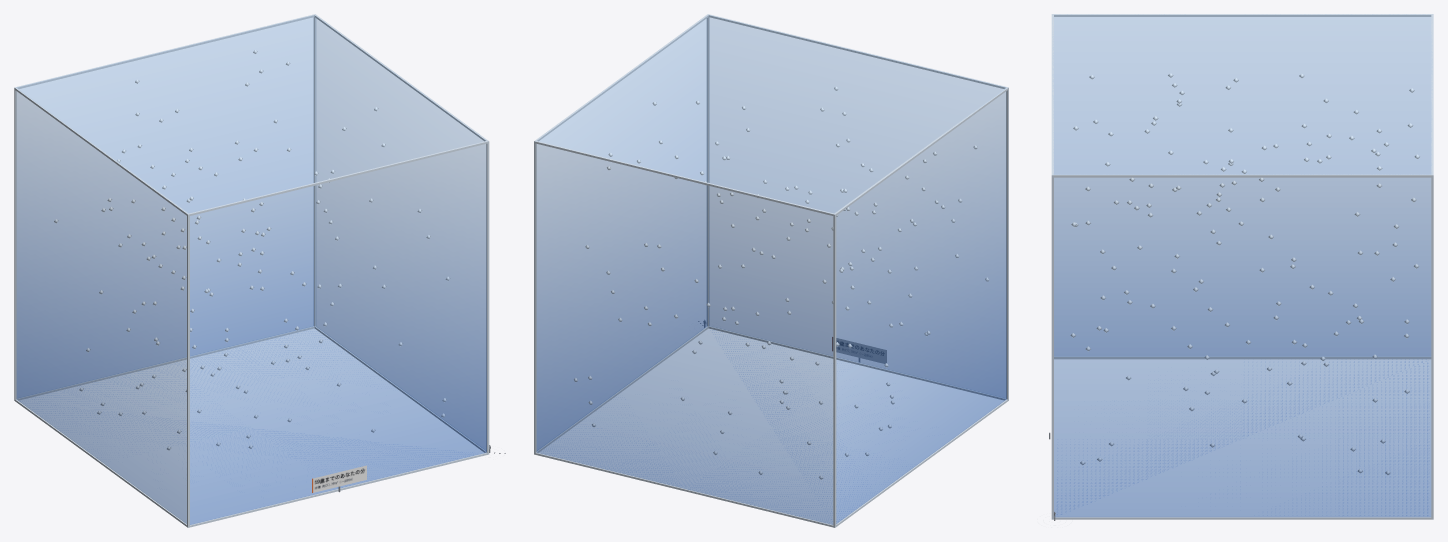
The model's file is cube_life_59.glb.
The picture shows the model from 3 angles, left to right: view 1: azimuth 30°, elevation 25°; view 2: azimuth 150°, elevation 25°; view 3: azimuth 270°, elevation 25°; orthographic projection. The views are drawn at different scales.
Visible parts, largest first — view 1: co2, edge, dots, label; view 2: co2, edge, dots, label; view 3: co2, edge, dots.
Part boxes in pixels (<box>): co2: <box>16,15,486,524</box>; edge: <box>14,14,489,527</box>; dots: <box>54,49,450,450</box>; label: <box>312,465,366,492</box>; co2: <box>536,15,1006,524</box>; edge: <box>534,14,1008,527</box>; dots: <box>574,86,989,479</box>; label: <box>832,337,886,363</box>; co2: <box>1053,15,1431,516</box>; edge: <box>1051,14,1433,519</box>; dots: <box>1070,73,1419,475</box>.
Size of the model in its own units: 69 by 65.24 by 68.1.
Materials: 8 (3 with a texture image).
